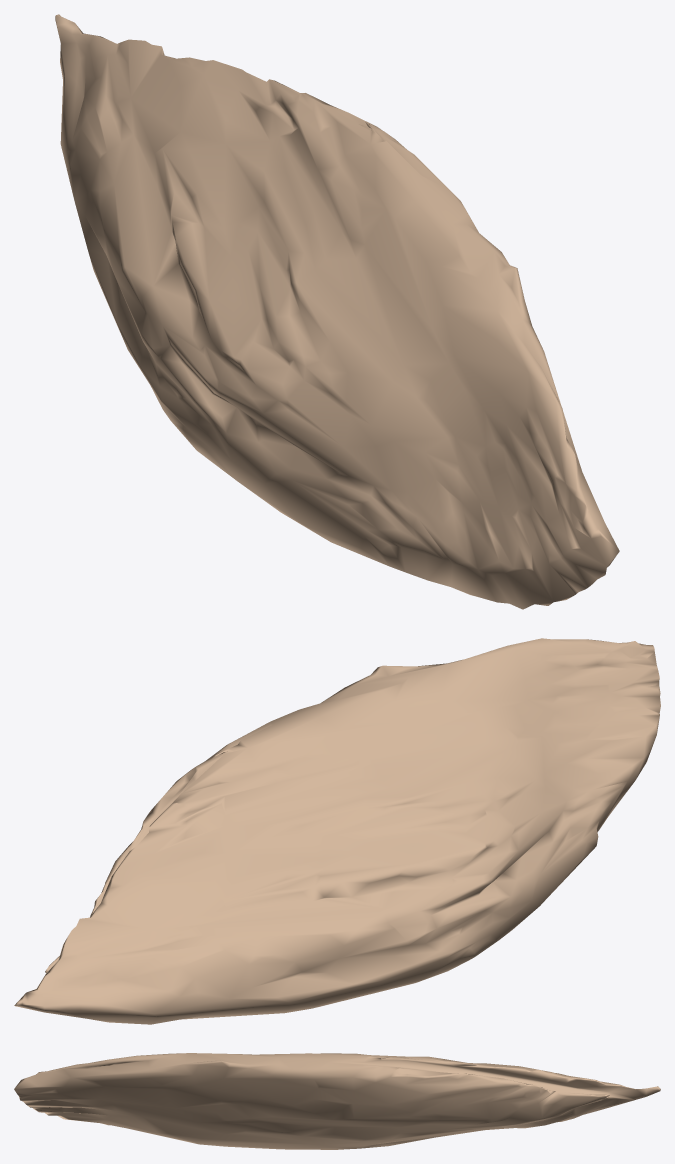
The picture shows the model from 3 angles, top to bottom: view 1: azimuth 30°, elevation 25°; view 2: azimuth 150°, elevation 25°; view 3: azimuth 270°, elevation 25°; orthographic projection. The views are drawn at different scales.
Visible parts, largest first — view 1: 左侧阔筋膜张肌; view 2: 左侧阔筋膜张肌; view 3: 左侧阔筋膜张肌.
Boxes of the visible parts, x1,y1,x2,y2 form: 左侧阔筋膜张肌: [55, 14, 619, 609]; 左侧阔筋膜张肌: [14, 638, 660, 1024]; 左侧阔筋膜张肌: [14, 1053, 660, 1149].
Size of the model in its own units: 0.0577 by 0.0519 by 0.238.
